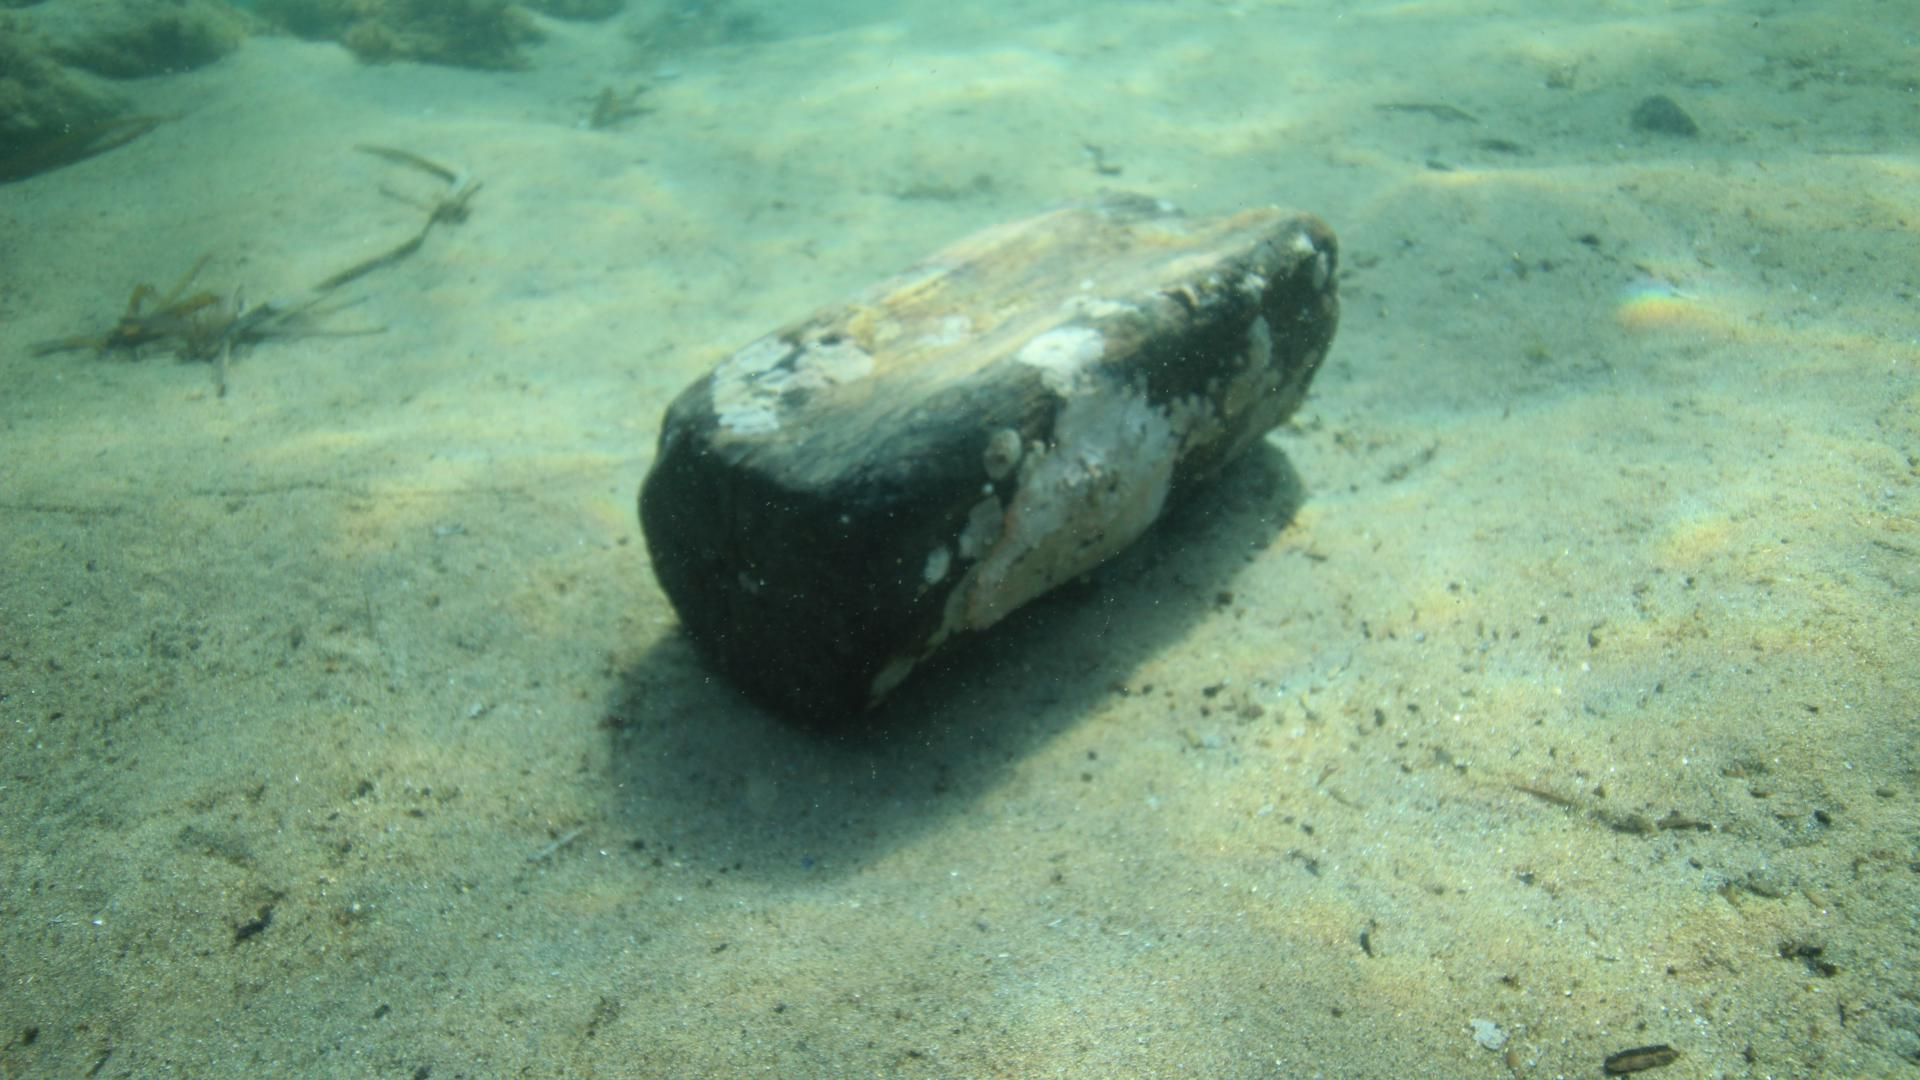wood: (637, 189, 1338, 725)
